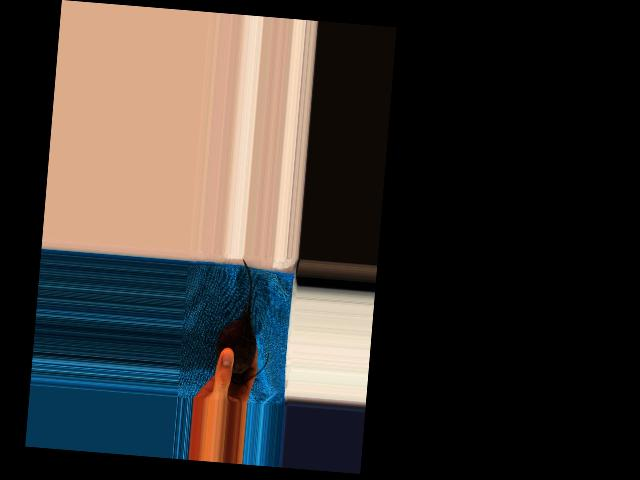beet: (213, 257, 275, 386)
